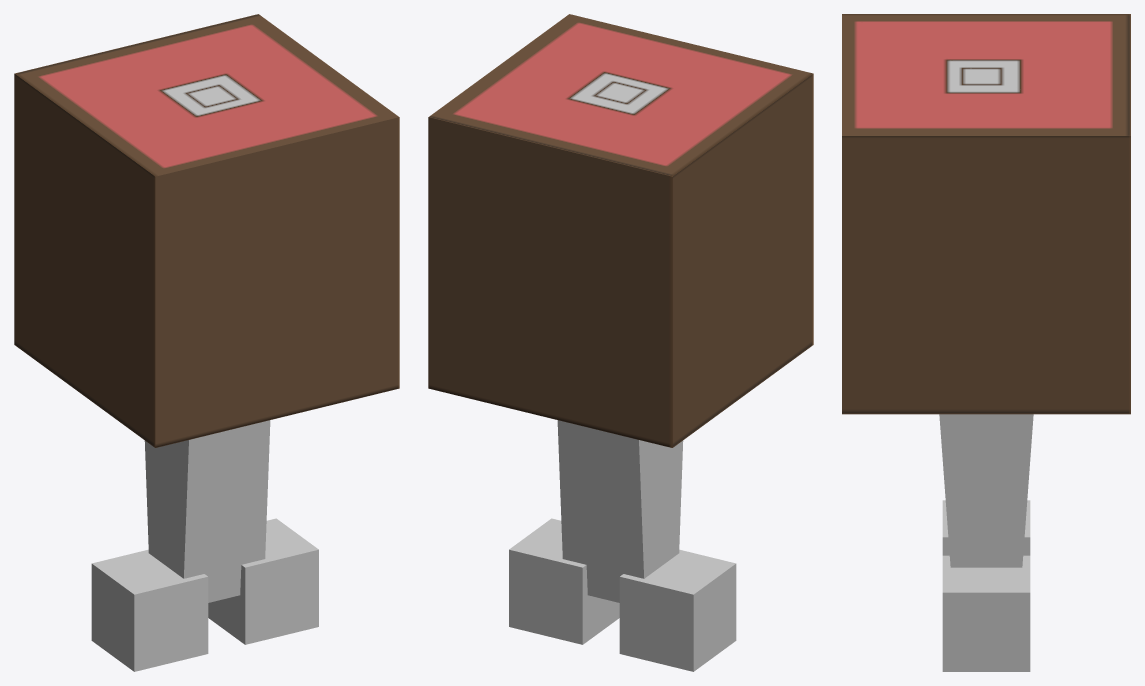
The model's file is item_meat.fbx.
3 renders of one model, left to right at view 1: azimuth 30°, elevation 25°; view 2: azimuth 150°, elevation 25°; view 3: azimuth 270°, elevation 25°, orthographic. The views are drawn at different scales.
Parts seen in each view (by area): view 1: ItemMeat; view 2: ItemMeat; view 3: ItemMeat.
Part boxes in pixels (x1,y1,x2,y2): ItemMeat: [14, 14, 399, 671]; ItemMeat: [428, 14, 813, 671]; ItemMeat: [842, 14, 1130, 671].
Bounding box in the file's own units: 198 × 418 × 198.
